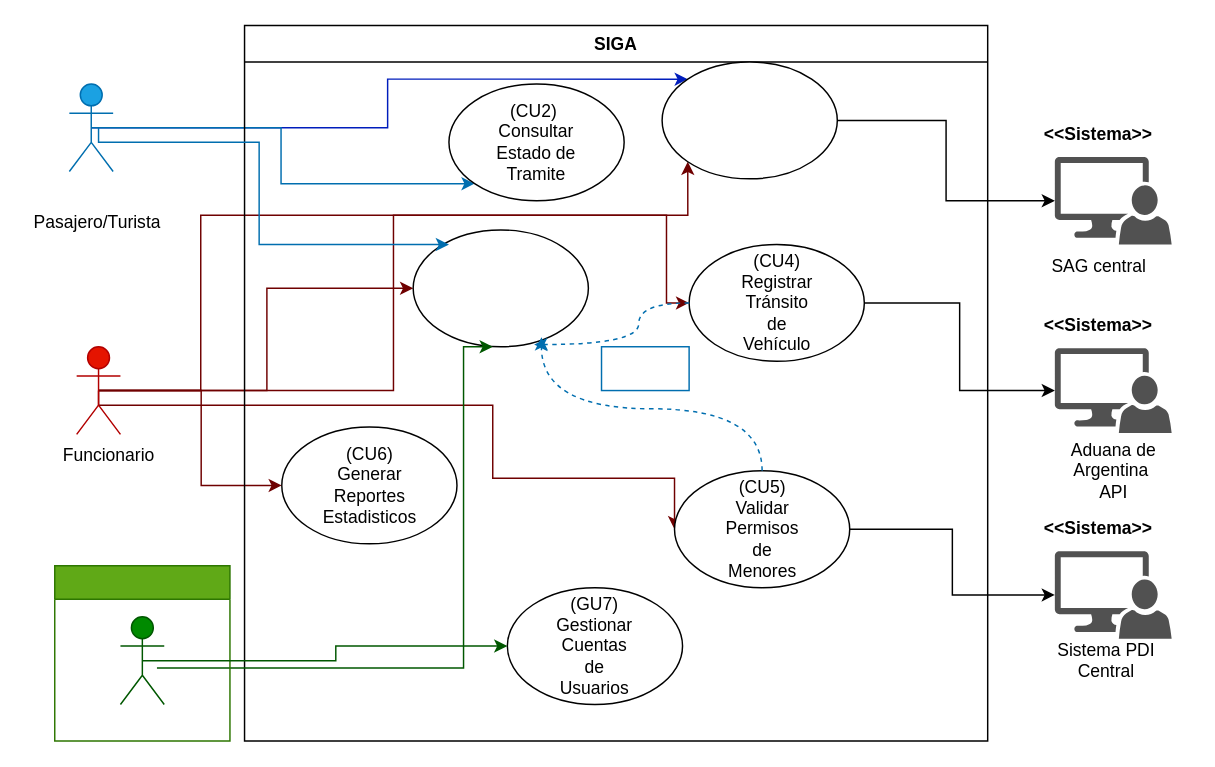
The diagram is 1215 pixels wide and 767 high, and some of its shapes have lost their labels. The box of each missing label's shape, as (x1, y1, x2, y2) in pixels:
(CU1) Realizar declaración Jurada: (661, 61, 837, 179)
(CU3) Iniciar Sesión (requisito previo): (412, 228, 588, 347)
<<Inclusión>>: (600, 345, 689, 391)
Administrador: (53, 564, 230, 741)
